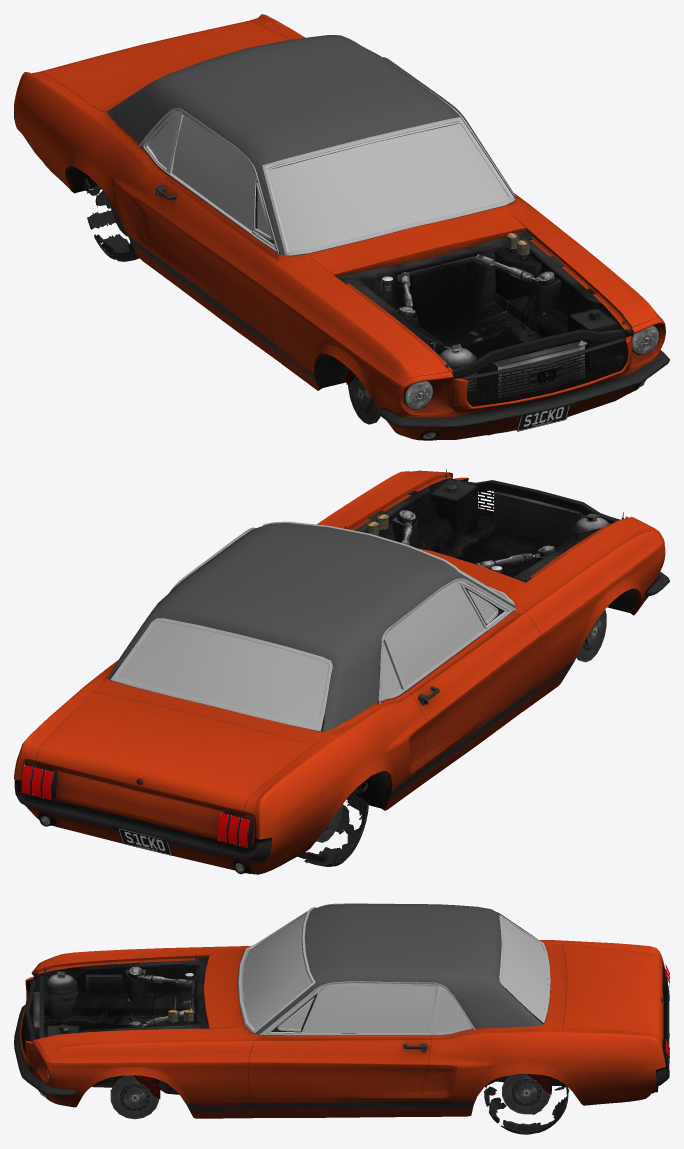
File: 28_SickoMustang.fbx
The picture shows the model from 3 angles, top to bottom: view 1: azimuth 30°, elevation 25°; view 2: azimuth 150°, elevation 25°; view 3: azimuth 270°, elevation 25°; orthographic projection. The views are drawn at different scales.
Visible parts, largest first — view 1: Body_Duco, Body_Matte, Body_Duco_Roof, Body_Glass, Body_Chrome, Body_Glossy, Body_Grill, Rotor, NumberPlate_Front; view 2: Body_Duco, Body_Duco_Roof, Body_Glass, Body_Matte, Body_Chrome, Body_Glossy, BrakeLights, NumberPlate, Rotor; view 3: Body_Duco, Body_Duco_Roof, Body_Glass, Body_Matte, Body_Chrome, Rotor (×2), Body_Glossy.
Boxes of the visible parts, x1,y1,x2,y2 form: Body_Duco: [14, 14, 665, 440]; Body_Matte: [69, 166, 633, 435]; Body_Duco_Roof: [107, 35, 515, 255]; Body_Glass: [148, 114, 508, 250]; Body_Chrome: [110, 57, 516, 255]; Body_Glossy: [14, 109, 669, 439]; Body_Grill: [466, 341, 627, 402]; Rotor: [348, 375, 380, 424]; NumberPlate_Front: [516, 405, 570, 431]; Body_Duco: [14, 470, 665, 874]; Body_Duco_Roof: [107, 523, 514, 731]; Body_Glass: [112, 569, 497, 730]; Body_Matte: [345, 469, 637, 808]; Body_Chrome: [110, 521, 516, 730]; Body_Glossy: [14, 571, 669, 874]; BrakeLights: [21, 765, 249, 847]; NumberPlate: [118, 828, 172, 855]; Rotor: [576, 609, 606, 662]; Body_Duco: [19, 940, 665, 1118]; Body_Duco_Roof: [255, 904, 543, 1034]; Body_Glass: [242, 914, 550, 1033]; Body_Matte: [28, 923, 561, 1094]; Body_Chrome: [237, 903, 550, 1035]; Rotor (×2): [110, 1073, 550, 1119]; Body_Glossy: [14, 965, 669, 1100].
Size of what is drawn, in the model's own units: 1.8 by 1.24 by 4.61.
